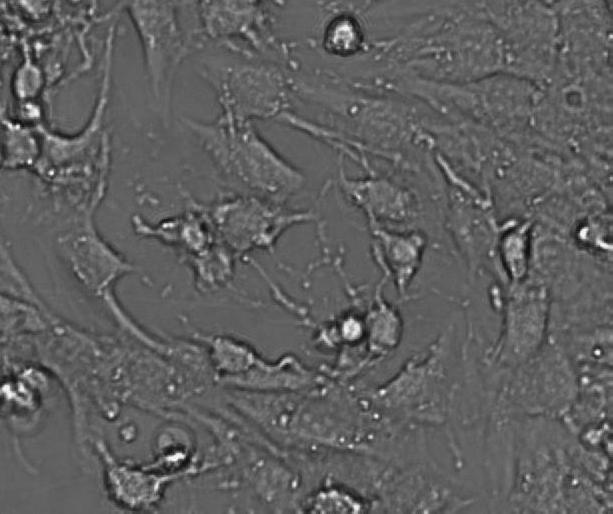Dead: (301, 482, 374, 514), (1, 368, 51, 413), (323, 9, 366, 58), (500, 226, 532, 283), (575, 217, 613, 255), (14, 94, 47, 124), (314, 323, 345, 352), (338, 313, 365, 345), (152, 448, 192, 469)
